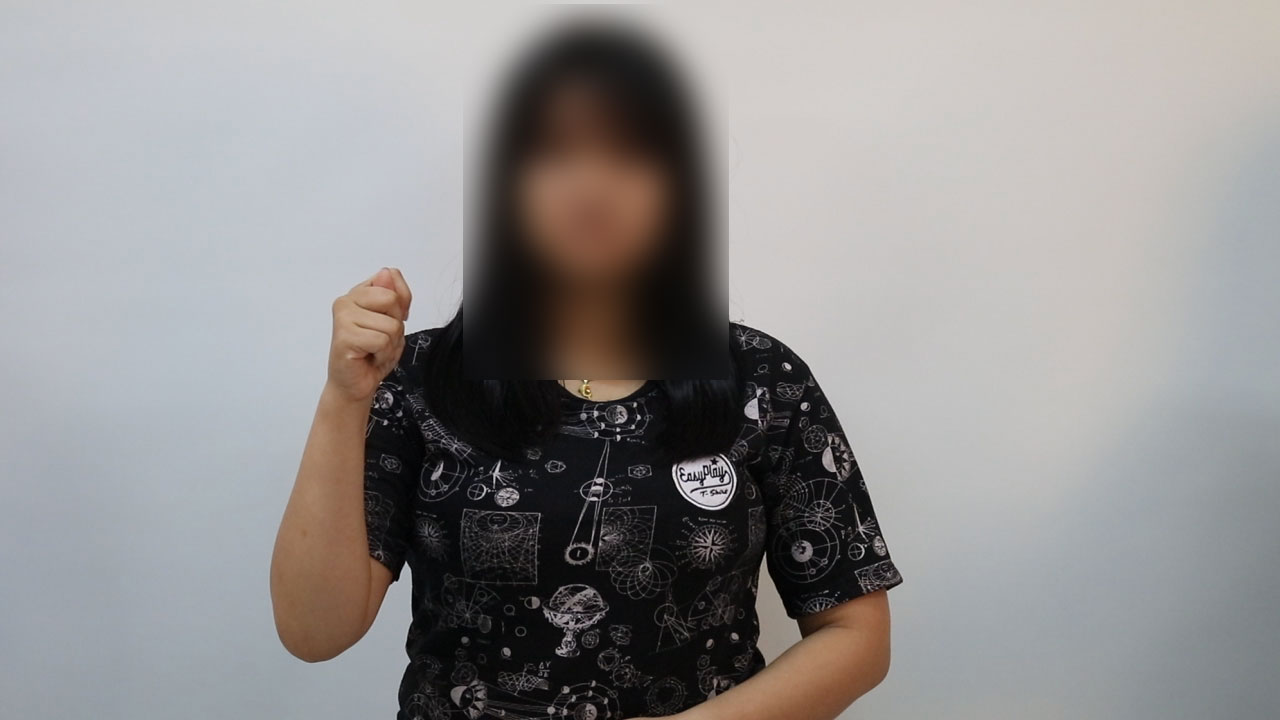tor: (310, 247, 438, 425)
